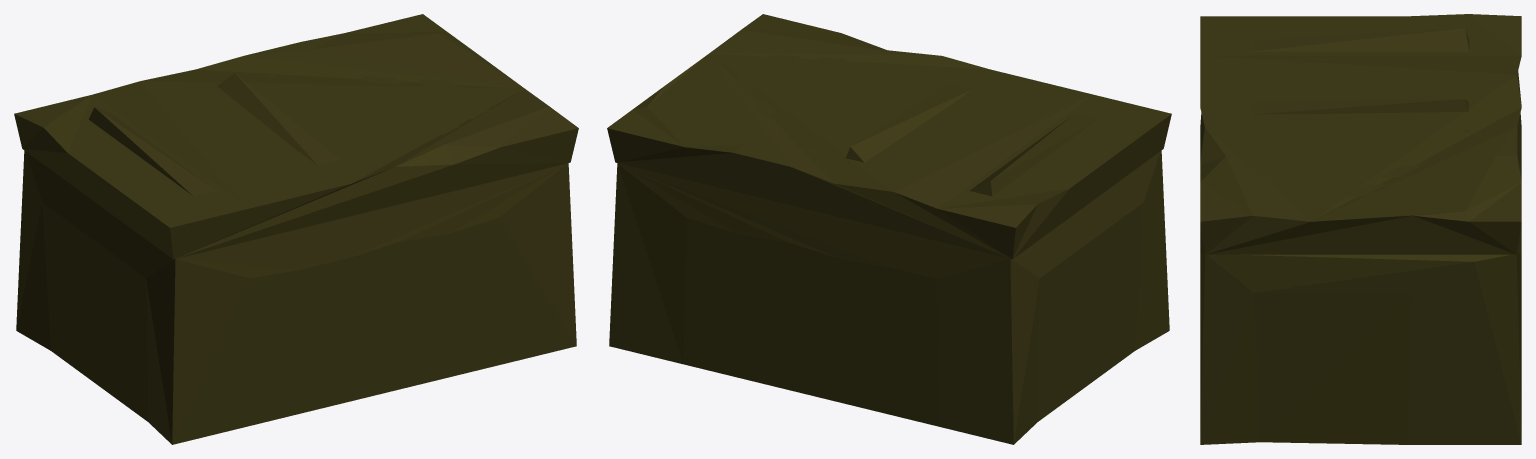
Rendered from mb-ammo-crate.lod2.glb.
3 renders of one model, left to right at view 1: azimuth 30°, elevation 25°; view 2: azimuth 150°, elevation 25°; view 3: azimuth 270°, elevation 25°, orthographic. The views are drawn at different scales.
Visible parts, largest first — view 1: Crate_02_low_Crate_0; view 2: Crate_02_low_Crate_0; view 3: Crate_02_low_Crate_0.
Boxes of the visible parts, x1=… form: Crate_02_low_Crate_0: x1=14, y1=14, x2=578, y2=444; Crate_02_low_Crate_0: x1=607, y1=14, x2=1171, y2=444; Crate_02_low_Crate_0: x1=1200, y1=14, x2=1521, y2=444.
Bounding box in the file's own units: 1.19 × 0.642 × 0.7841.
